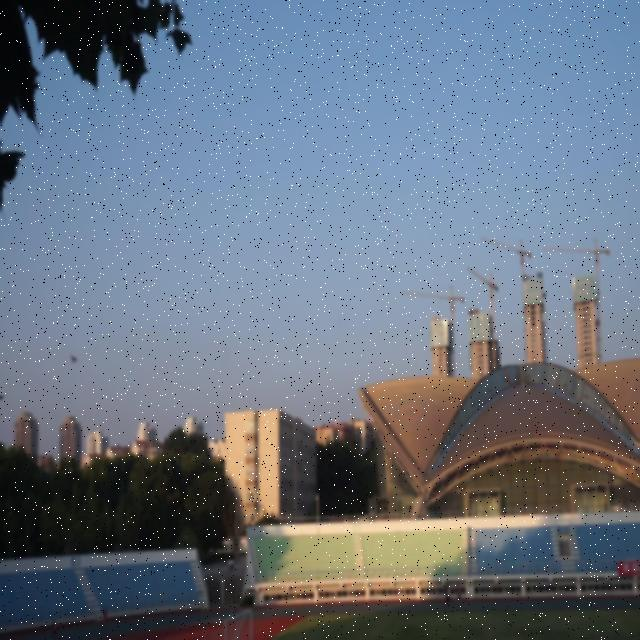UAV: (69, 355, 80, 364)
